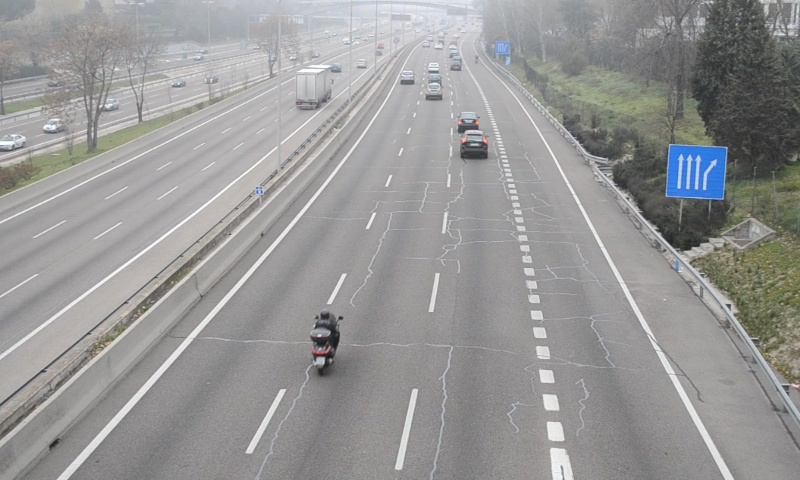car: (459, 130, 488, 157), (456, 112, 479, 132), (424, 82, 443, 100)
motorcycle: (308, 308, 343, 375)
